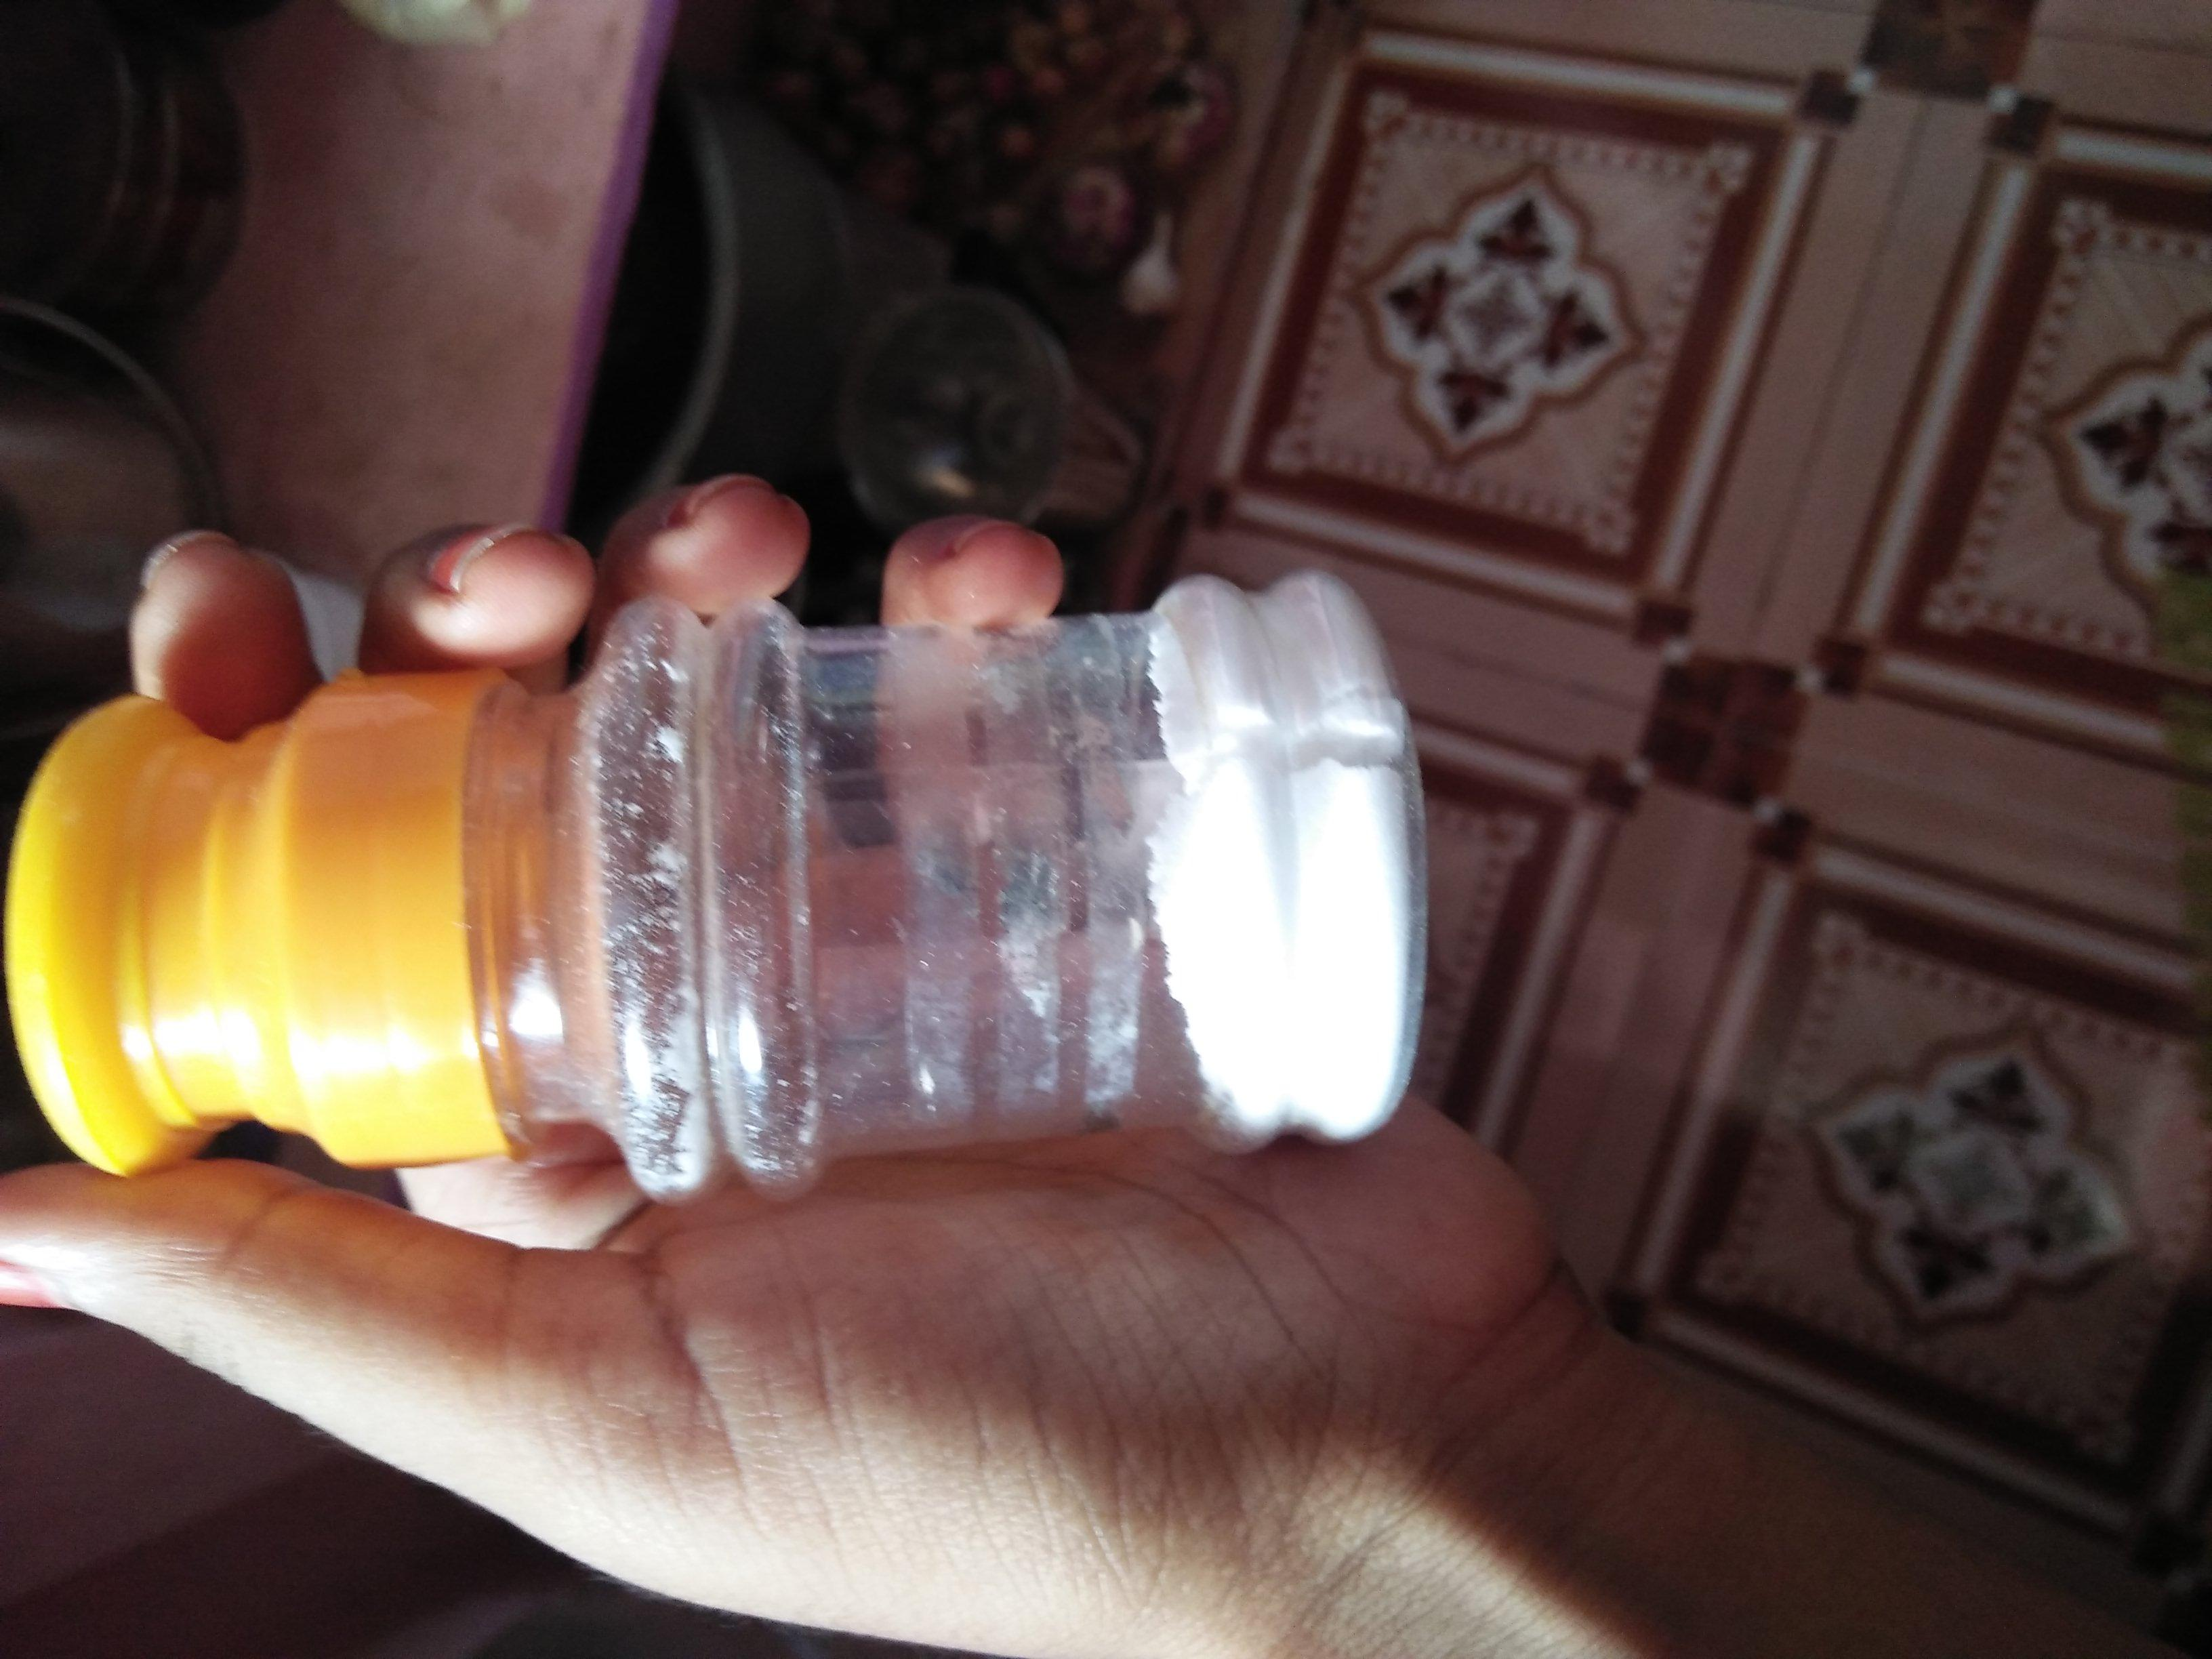bottle: (571, 2, 1460, 1093)
